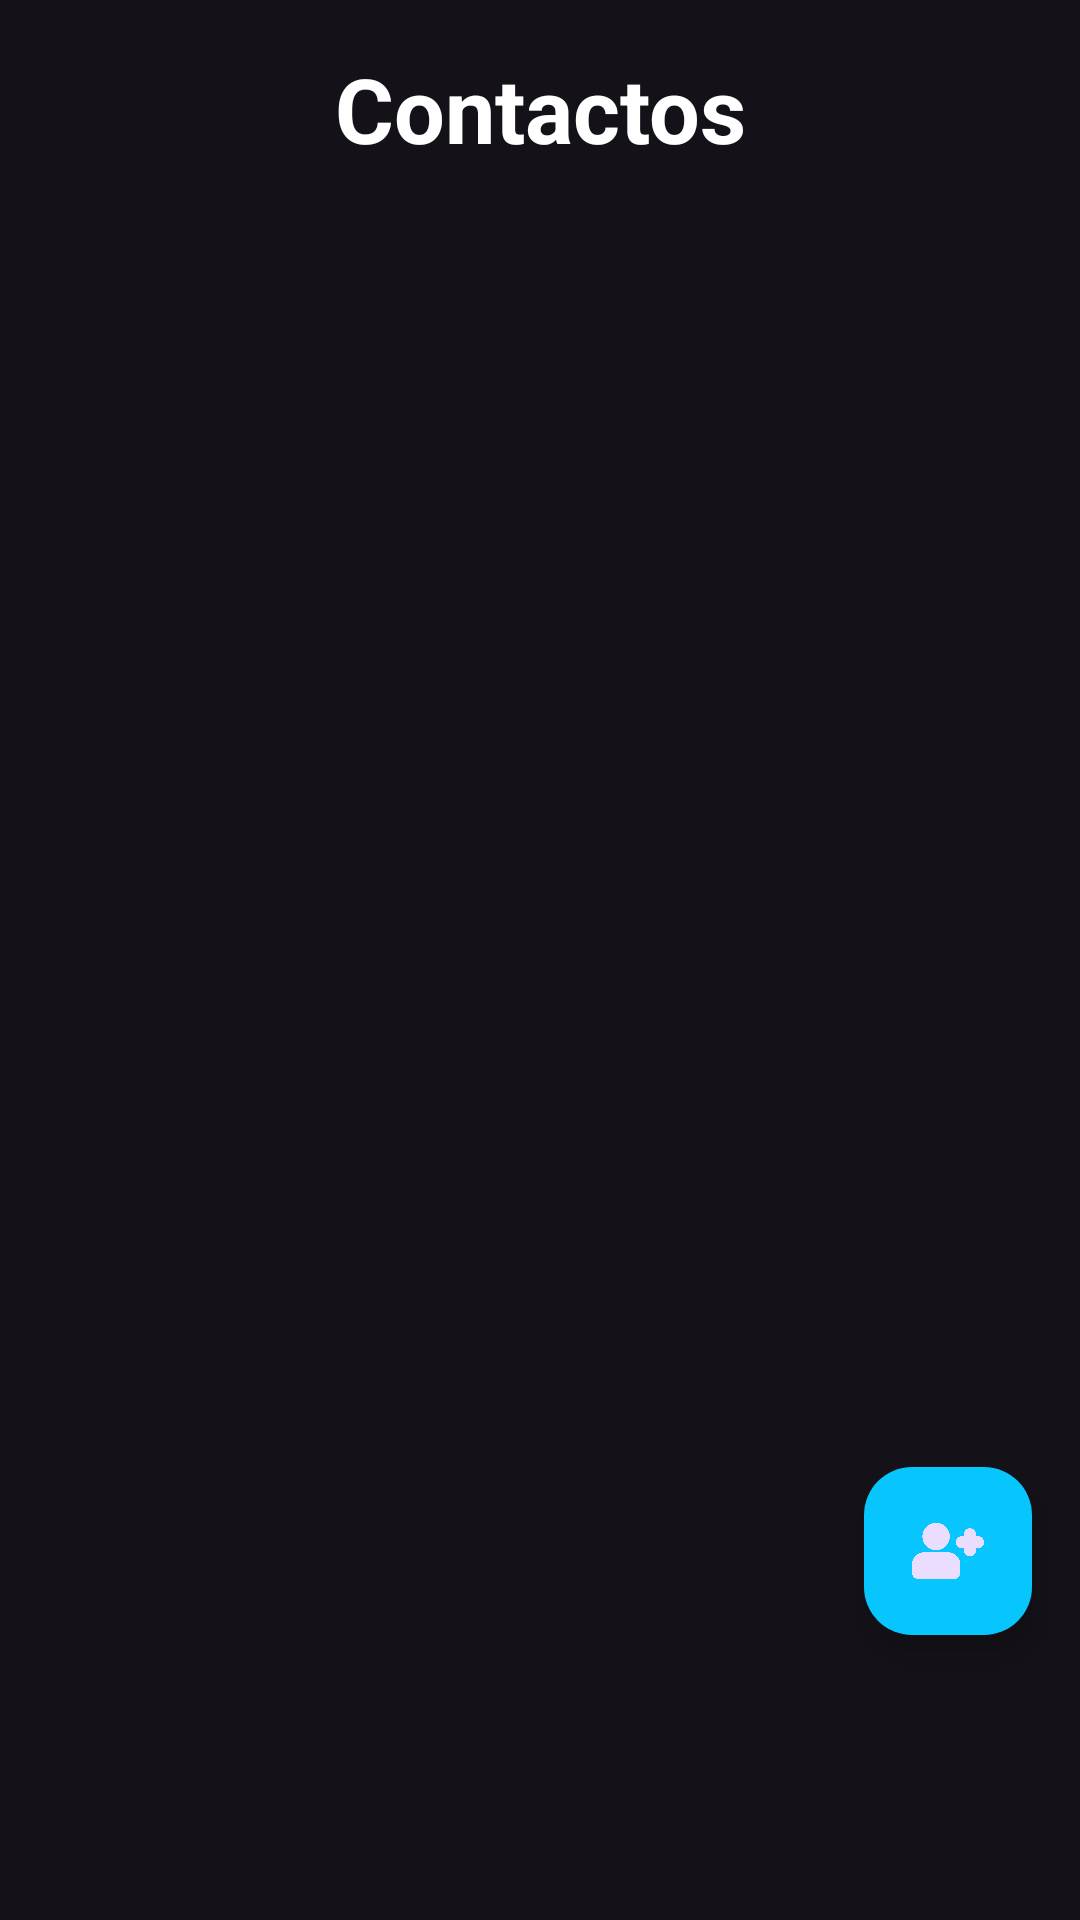

Where icons sit on this 1080×1920 app screen, as [left=x1, top=y1, right=x2, bottom=y2]:
agregarcontacto: [left=864, top=1467, right=1032, bottom=1635]
